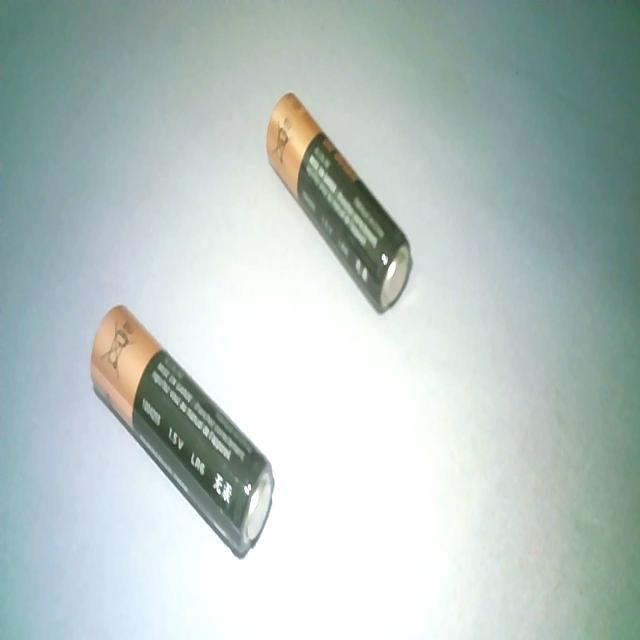AA: (89, 302, 275, 560), (266, 90, 412, 314)
